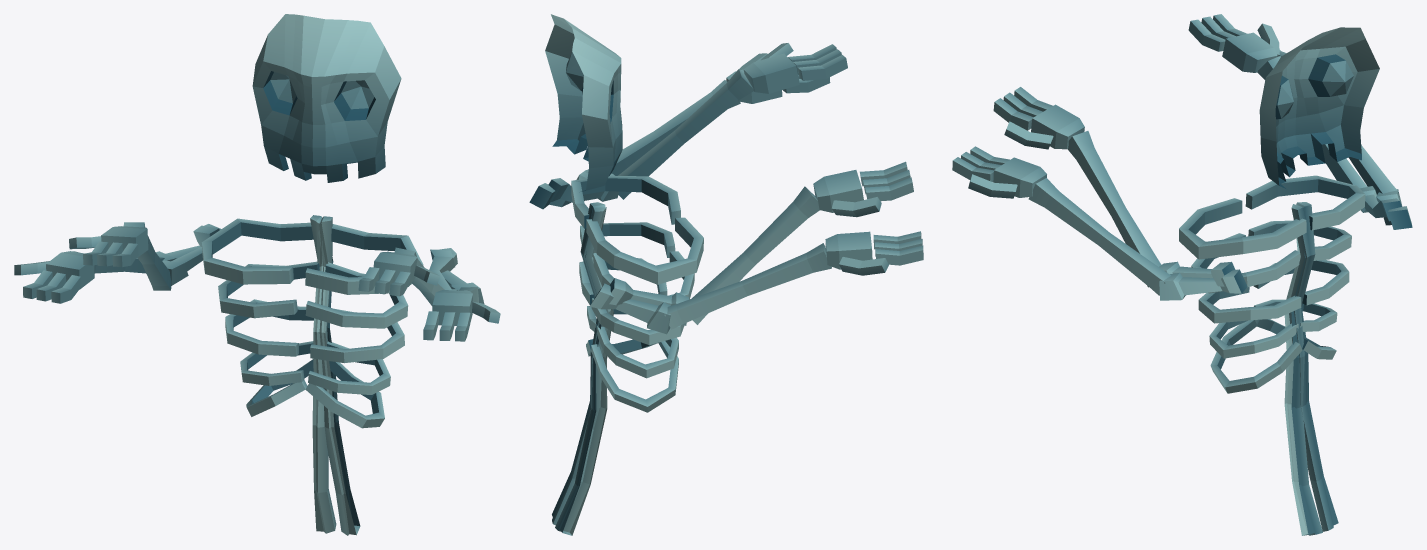
The model's file is Esqueleto.Prop.1.fbx.
3 views of the same model, side by side, from view 1: azimuth 30°, elevation 25°; view 2: azimuth 150°, elevation 25°; view 3: azimuth 270°, elevation 25° (orthographic). The views are drawn at different scales.
Parts seen in each view (by area): view 1: Esqueleto.Prop.1; view 2: Esqueleto.Prop.1; view 3: Esqueleto.Prop.1.
Part boxes in pixels (x1,y1,x2,y2): Esqueleto.Prop.1: [14, 14, 500, 535]; Esqueleto.Prop.1: [529, 14, 923, 535]; Esqueleto.Prop.1: [952, 14, 1412, 535].
Size of the model in its own units: 223 by 265 by 222.
